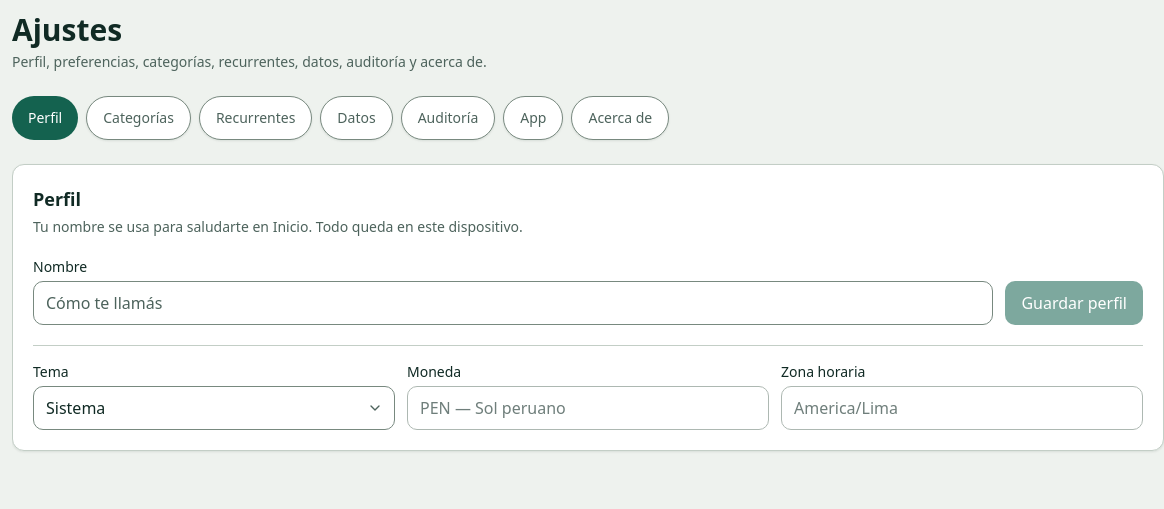
Test: settings screen › saves the profile name
The width and height of the screenshot is (1164, 509).
Step 1. Type "Ana" into the field labelled "Nombre" → (513, 303), box [33,281,993,325]
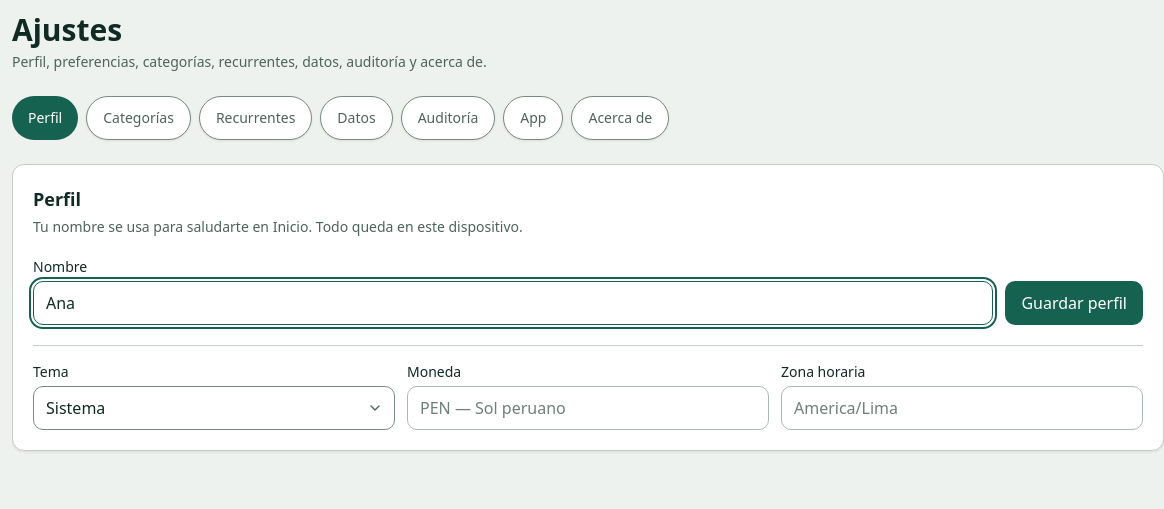
Step 2. Click the button "Guardar perfil" → (1074, 303), box [1005,281,1143,325]
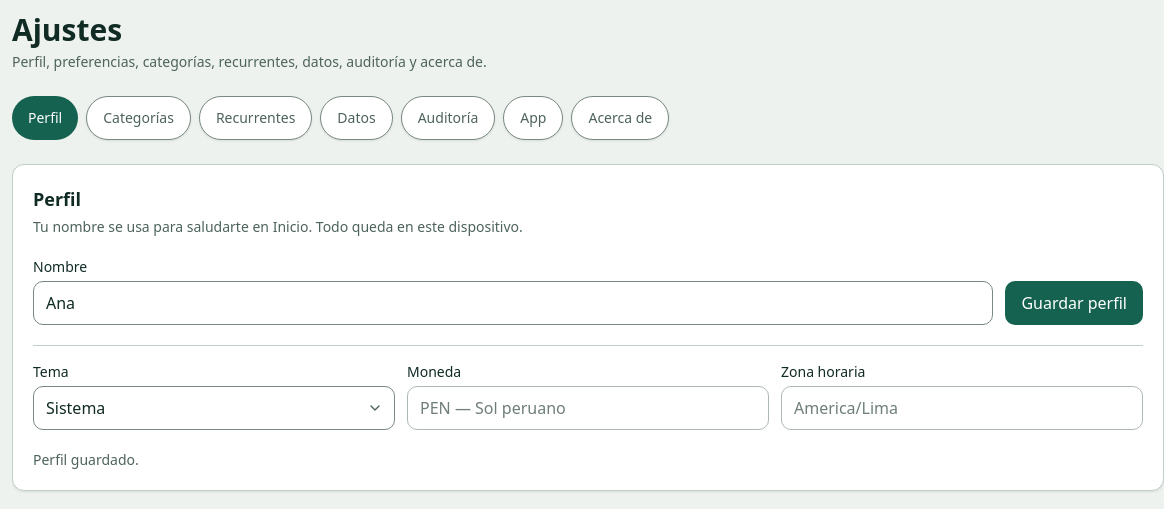
expect the message shows "Perfil guardado": met, box [33,450,139,469]
